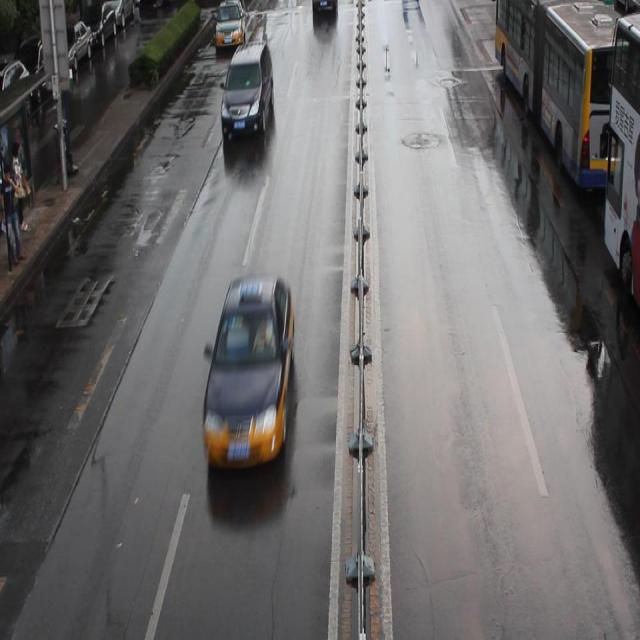car: (201, 276, 295, 474), (213, 1, 246, 49), (311, 1, 337, 18)
truck: (220, 41, 274, 138)
van: (493, 1, 640, 186), (601, 10, 640, 305)
